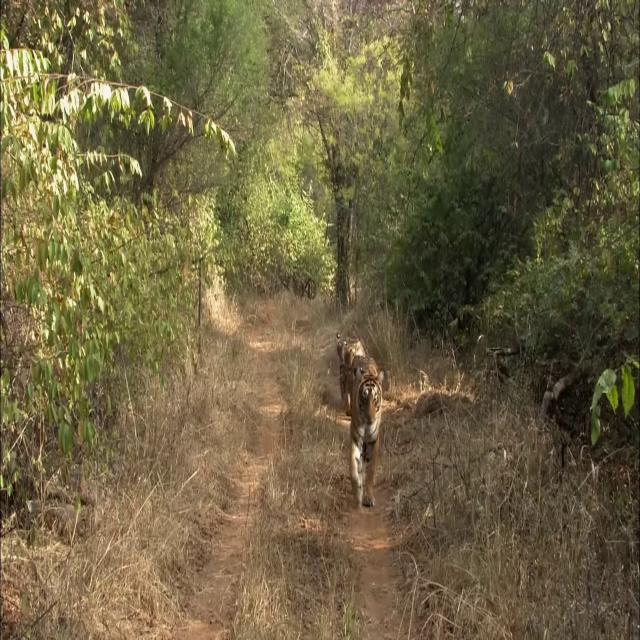tiger: (350, 354, 385, 509)
